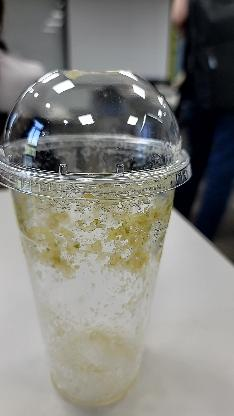Plastic Cup: (0, 68, 192, 408)
